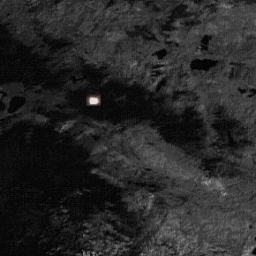Target: (87, 96, 98, 104)
